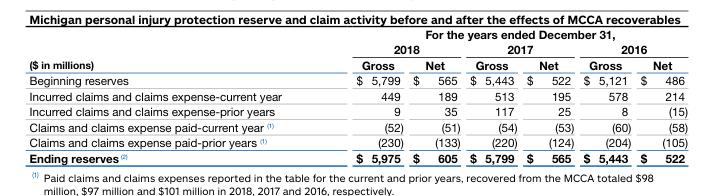table: (28, 29, 687, 165)
table column: (28, 29, 318, 165), (318, 29, 407, 165), (407, 29, 464, 165), (464, 29, 521, 165), (521, 29, 578, 165), (578, 29, 634, 165), (634, 29, 687, 165)
table column header: (28, 29, 687, 73)
table row: (28, 42, 687, 58), (28, 73, 687, 89), (28, 104, 687, 120), (28, 135, 687, 151), (28, 58, 687, 73), (28, 89, 687, 104), (28, 120, 687, 135), (28, 151, 687, 165), (28, 29, 687, 42)
table spanning cell: (28, 29, 318, 73), (318, 29, 687, 42), (318, 42, 464, 58), (464, 42, 578, 58), (578, 42, 687, 58)
